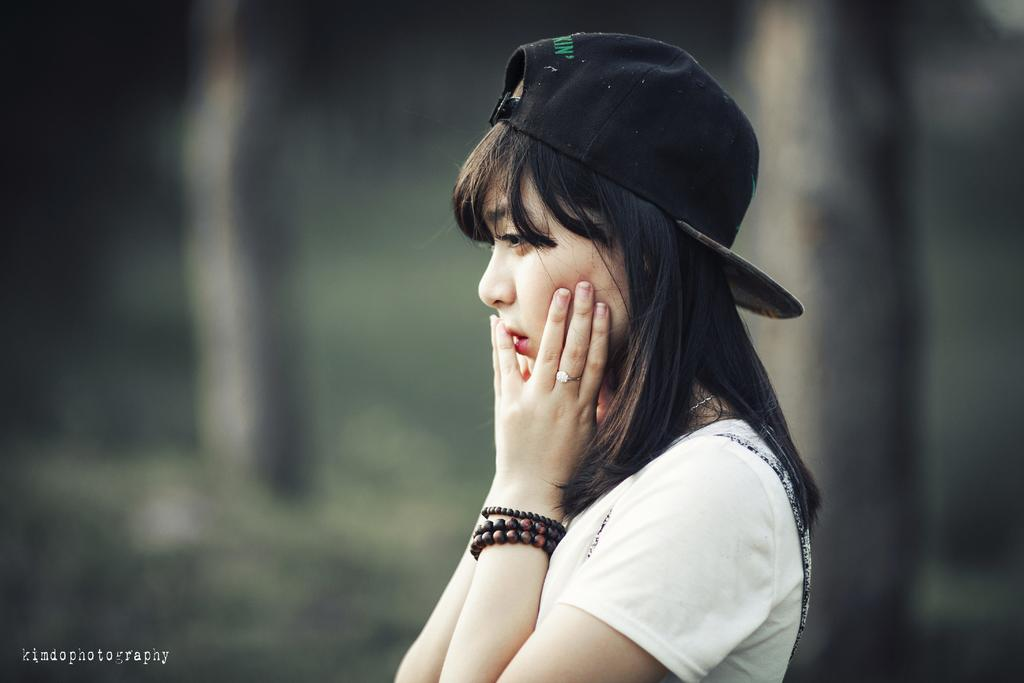Hat: (490, 28, 804, 322)
